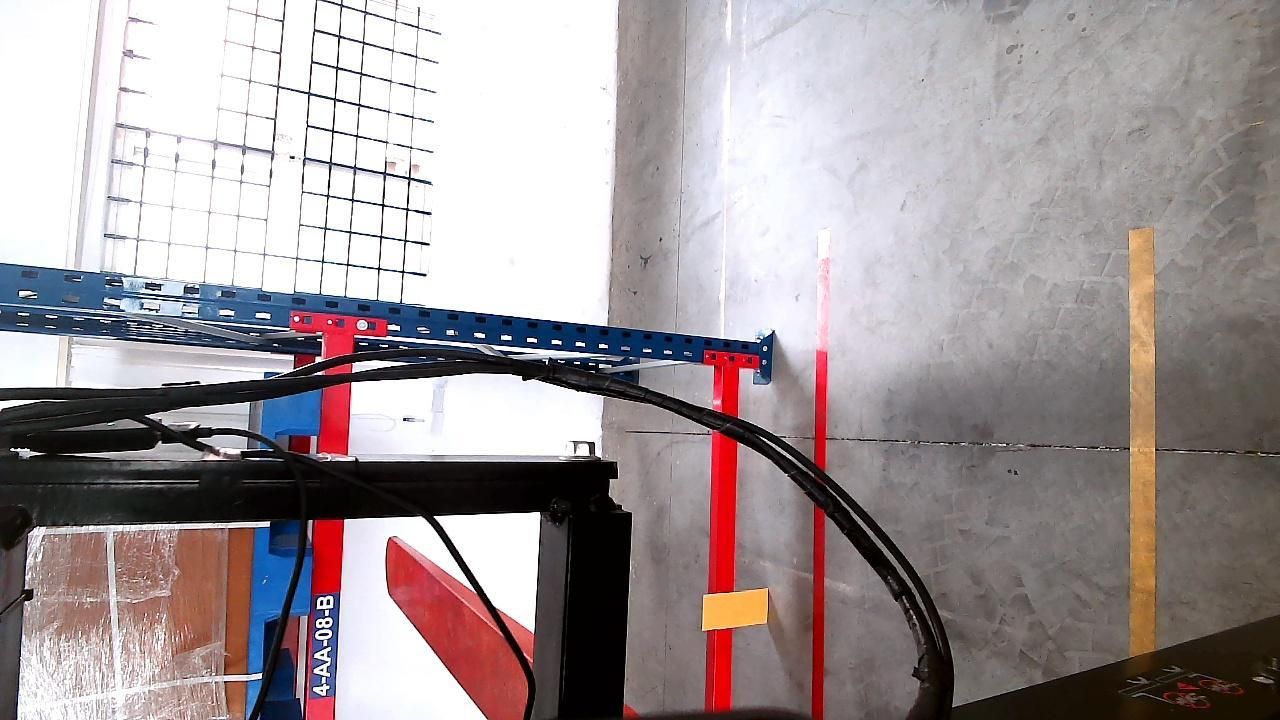red_line: (811, 227, 828, 719)
yellow_line: (1129, 222, 1159, 662)
